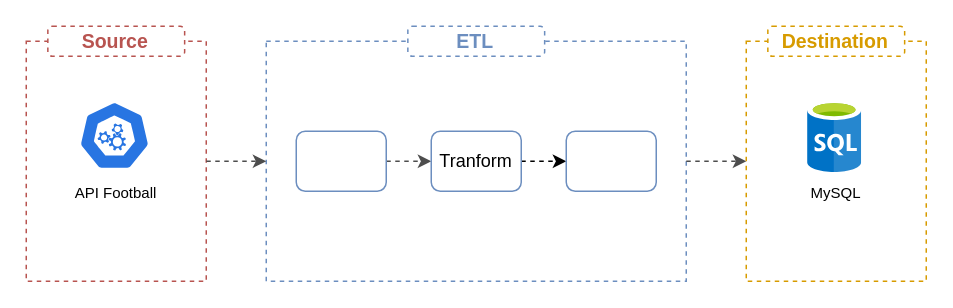
Image size: 953x308. Some labels were removed from this diagram. The centre of each missing label's shape, as x and y in pixels:
Extract: point (340, 160)
Load: point (610, 160)
